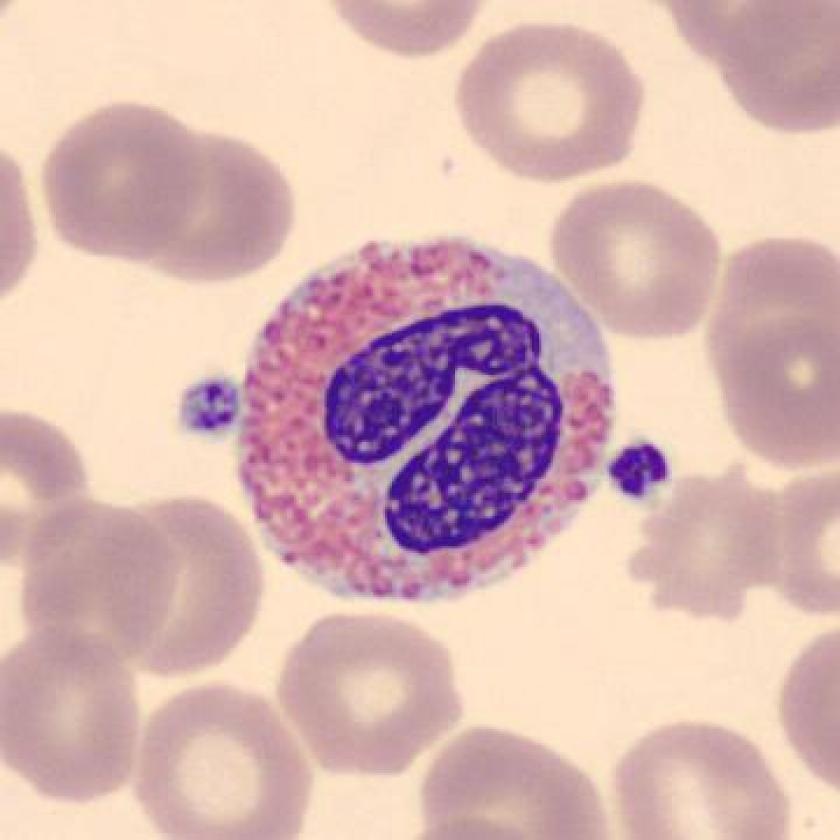eosinophil: (227, 216, 636, 626)
